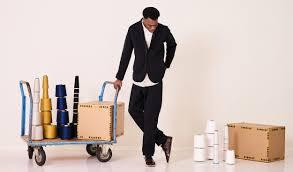Boxes: (78, 103, 125, 139)
